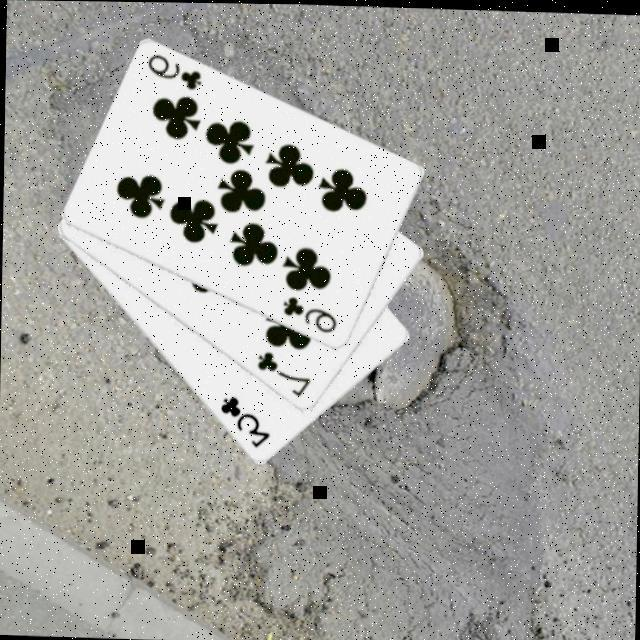3C: (216, 393, 273, 453)
7C: (253, 349, 315, 401)
9C: (144, 51, 207, 95), (279, 294, 341, 338)
